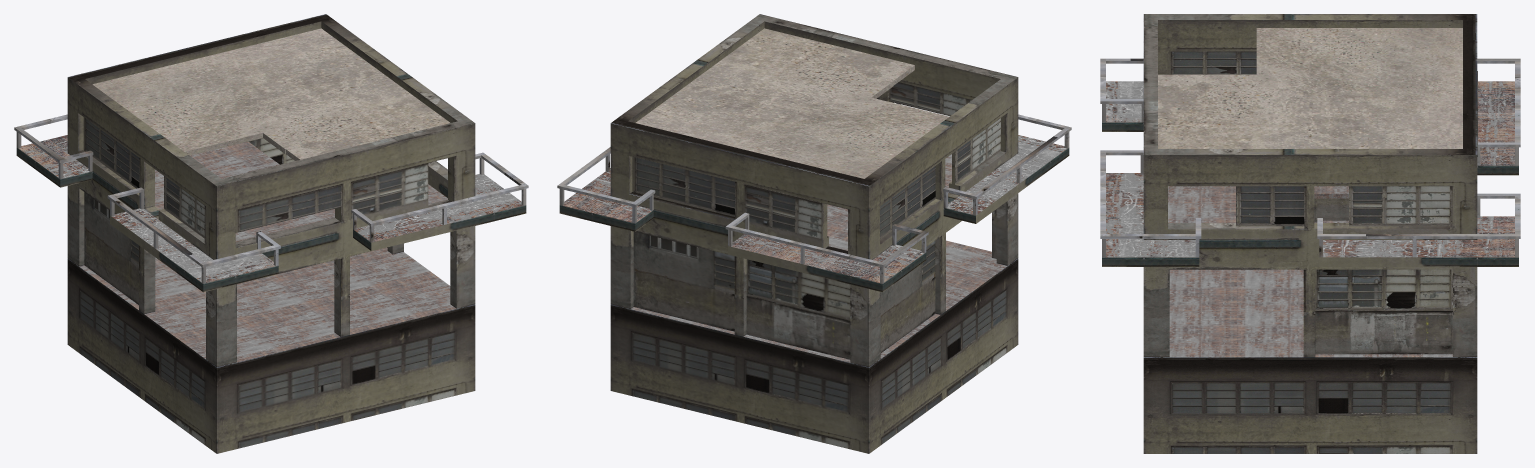
The model's file is BagBuilding9_140.fbx.
3 renders of one model, left to right at view 1: azimuth 30°, elevation 25°; view 2: azimuth 150°, elevation 25°; view 3: azimuth 270°, elevation 25°, orthographic. The views are drawn at different scales.
Parts seen in each view (by area): view 1: mainA140, stairsfloorsA140, roofA140, railsA140; view 2: mainA140, roofA140, stairsfloorsA140, railsA140; view 3: mainA140, roofA140, stairsfloorsA140, railsA140.
Part boxes in pixels (x1,y1,x2,y2): mainA140: [16, 14, 526, 453]; stairsfloorsA140: [19, 135, 522, 362]; roofA140: [92, 28, 449, 160]; railsA140: [14, 114, 528, 283]; mainA140: [559, 14, 1069, 453]; roofA140: [636, 28, 948, 178]; stairsfloorsA140: [563, 135, 1066, 362]; railsA140: [557, 103, 1071, 283]; mainA140: [1102, 14, 1518, 453]; roofA140: [1158, 28, 1462, 148]; stairsfloorsA140: [1106, 81, 1514, 357]; railsA140: [1100, 58, 1520, 257].
Size of the model in its own units: 21.19 by 16.62 by 21.19.
